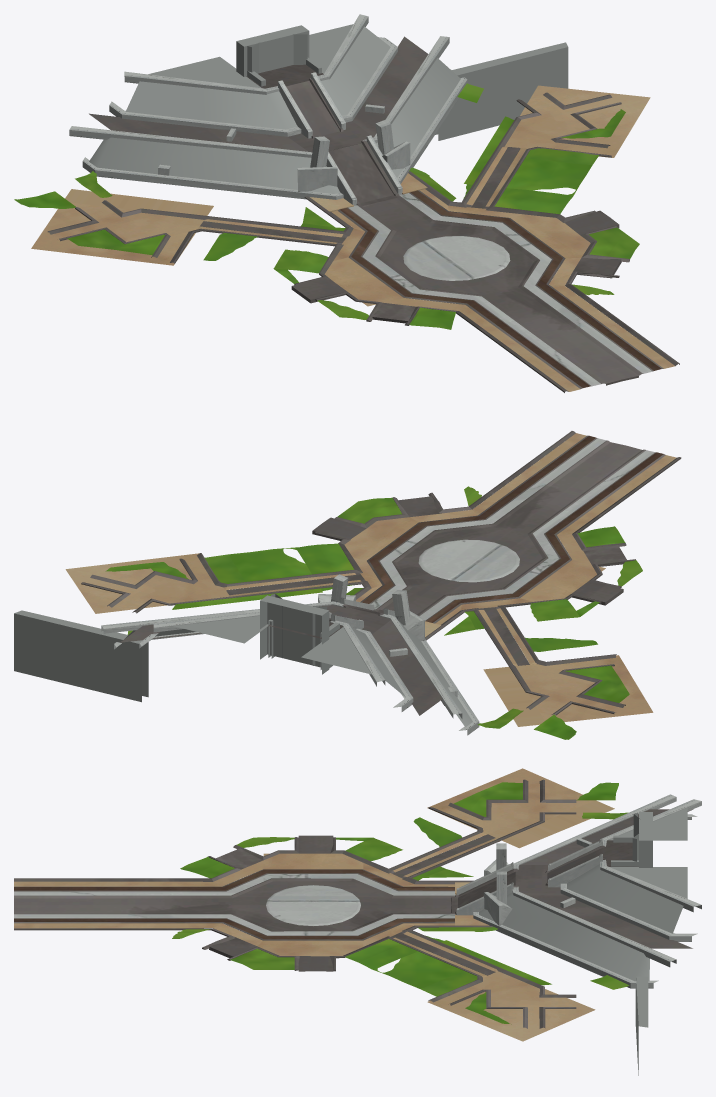
File: SM_ENV_LKNVLD_Ground_COL.FBX
The picture shows the model from 3 angles, top to bottom: view 1: azimuth 30°, elevation 25°; view 2: azimuth 150°, elevation 25°; view 3: azimuth 270°, elevation 25°; orthographic projection. The views are drawn at different scales.
Visible parts, largest first — view 1: SM_ENV_LKNVLD_Ground_COL; view 2: SM_ENV_LKNVLD_Ground_COL; view 3: SM_ENV_LKNVLD_Ground_COL.
Boxes of the visible parts, <box> form: SM_ENV_LKNVLD_Ground_COL: <box>14,14,679,392</box>; SM_ENV_LKNVLD_Ground_COL: <box>14,431,681,739</box>; SM_ENV_LKNVLD_Ground_COL: <box>14,768,701,1075</box>.
Bounding box in the file's own units: 14034 × 3036 × 14929.
